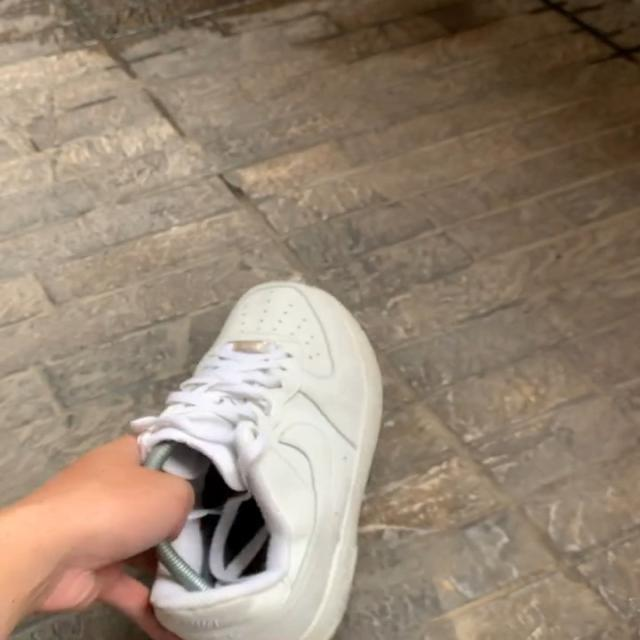nike fake air force: (117, 274, 410, 638)
